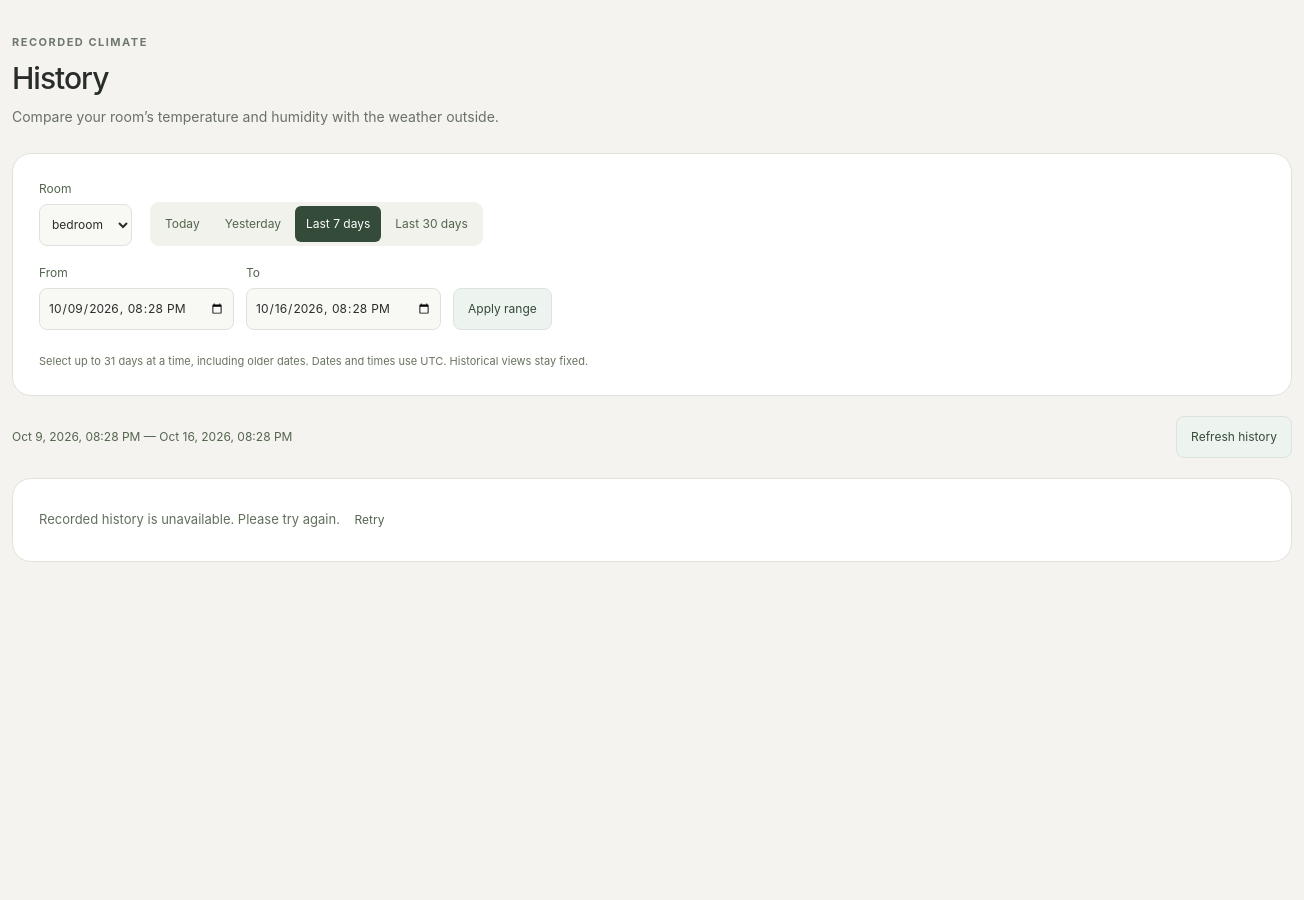
Scenario: retries failures, displays empty history and cancels obsolete requests
This screenshot has width=1304, height=900.
Expected: the message "Recorded history is unavailable. Please try again. Retry" is shown, [12, 478, 1292, 562]
Click the button "Retry". click: (369, 520)
box: [344, 505, 395, 535]
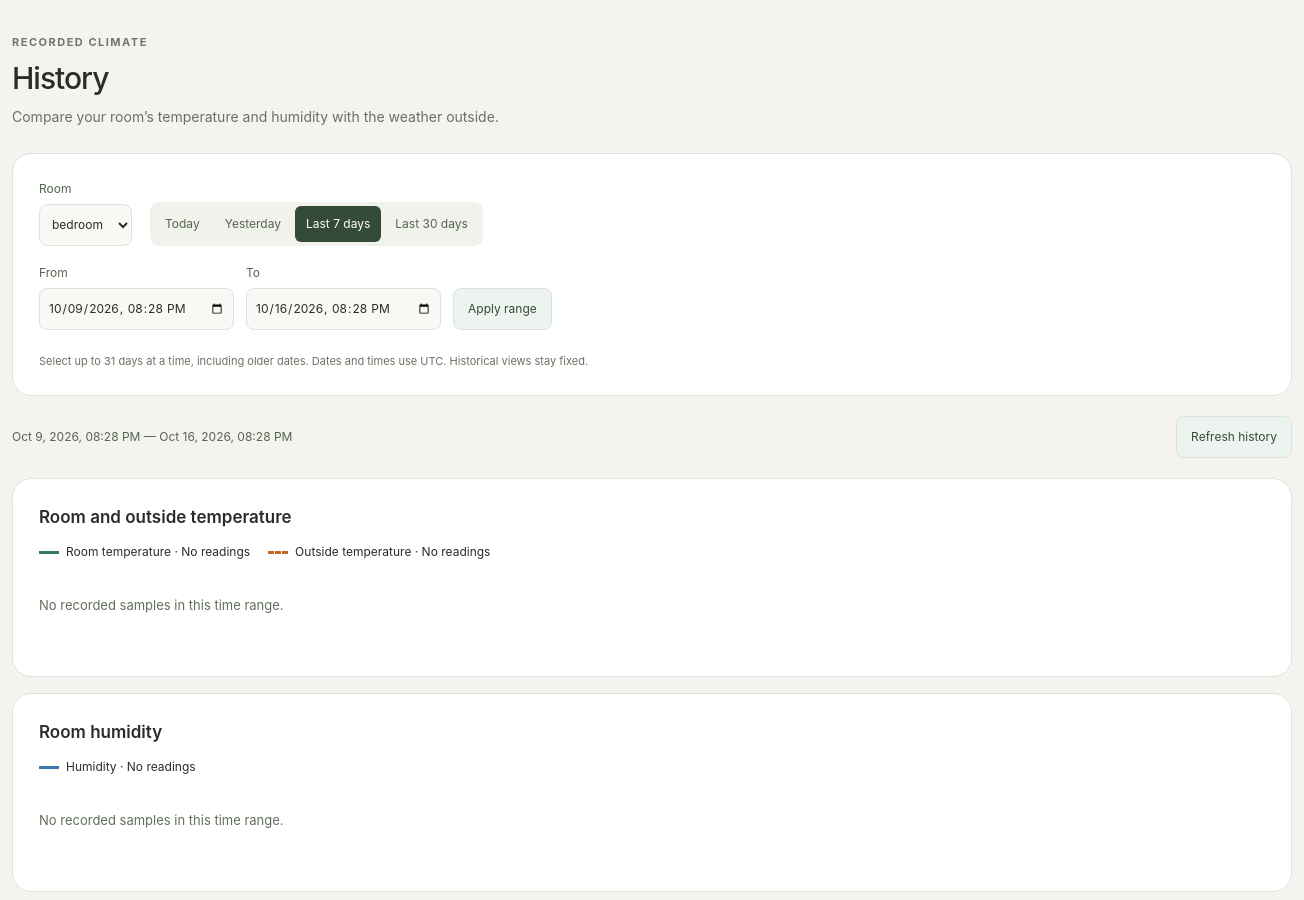
Expected: the text "No recorded samples in this time range." is shown 2 times, [39, 596, 284, 612]; [39, 812, 284, 828]
